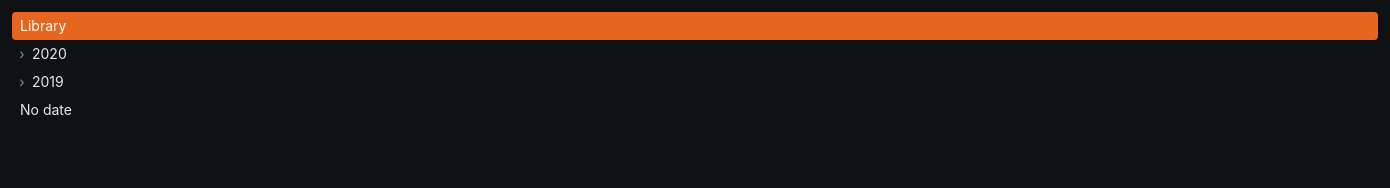
DateTree › clicking the expand chevron toggles expandedYears without selecting
The image size is (1390, 188).
Click the button named "expand 2019" at [22, 82], box top-left (12, 68), bottom-right (32, 96)
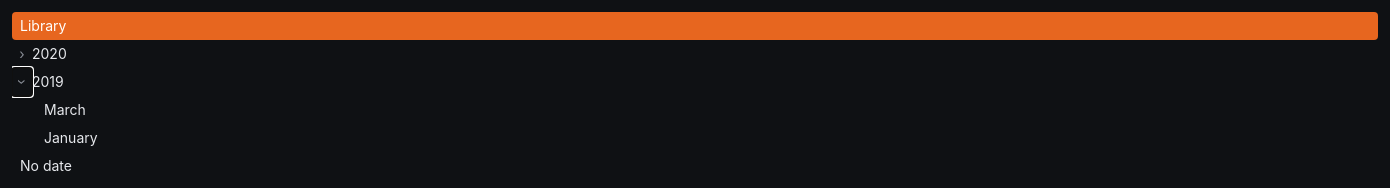
Result: the button "March" is shown at top-left (36, 96), bottom-right (1378, 124)
